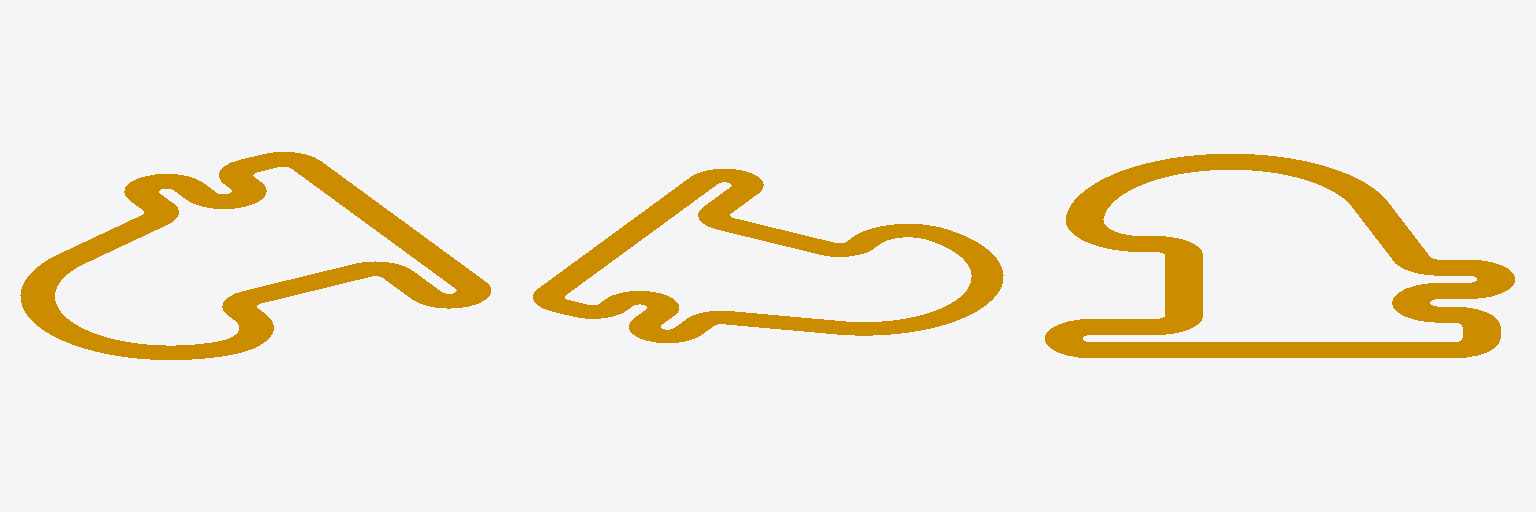
URDF robot description (simple_circuit):
<?xml version="1.0" ?>
<robot name="simple_circuit">


  <link name="f1">
    <origin rpy="0 0 0" xyz="0 0 0"/>
    <visual>
      <origin rpy="0 0 -1.57" xyz="53.462 -10.734 1.2"/>
      <geometry>
        <mesh filename="package://f1/models/f1_renault/Renault/Car.obj" scale="0.2 0.2 0.2"/>
      </geometry>
    </visual>

    <visual>
      <origin rpy="1.57079632679 0 0" xyz="0 0 1"/>
      <geometry>
        <mesh filename="package://f1/models/simple_circuit/meshes/simple_line.obj"/>
      </geometry>
    </visual>

  </link>

</robot>

--- Facts derived from the render (not from the file) ---
Views: 3 orthographic renders of the robot side by side, from view 1: azimuth 30°, elevation 25°; view 2: azimuth 150°, elevation 25°; view 3: azimuth 270°, elevation 25°.
Model simple_circuit with 1 links and 0 joints (none), rooted at f1, posed every joint at zero.
Links seen in each view (by area): view 1: f1; view 2: f1; view 3: f1.
Boxes of the visible links, bbox=[...] form: f1: bbox=[20, 152, 490, 359]; f1: bbox=[533, 169, 1003, 342]; f1: bbox=[1045, 154, 1514, 357].
Bounding box of the posed robot: 115 × 112 × 0.0021 m (x, y, z).
Meshes: 2 distinct files referenced, 1 mesh visuals loaded (1 OBJ); not drawn: 1 (reference not matched to a file when rendering).
